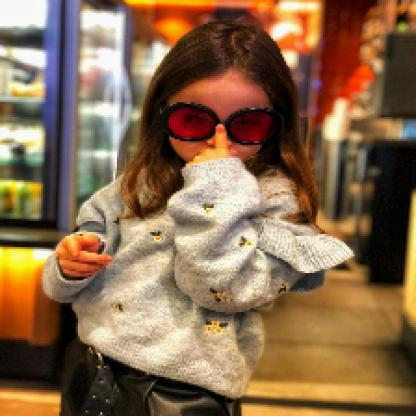child: (42, 20, 358, 416)
